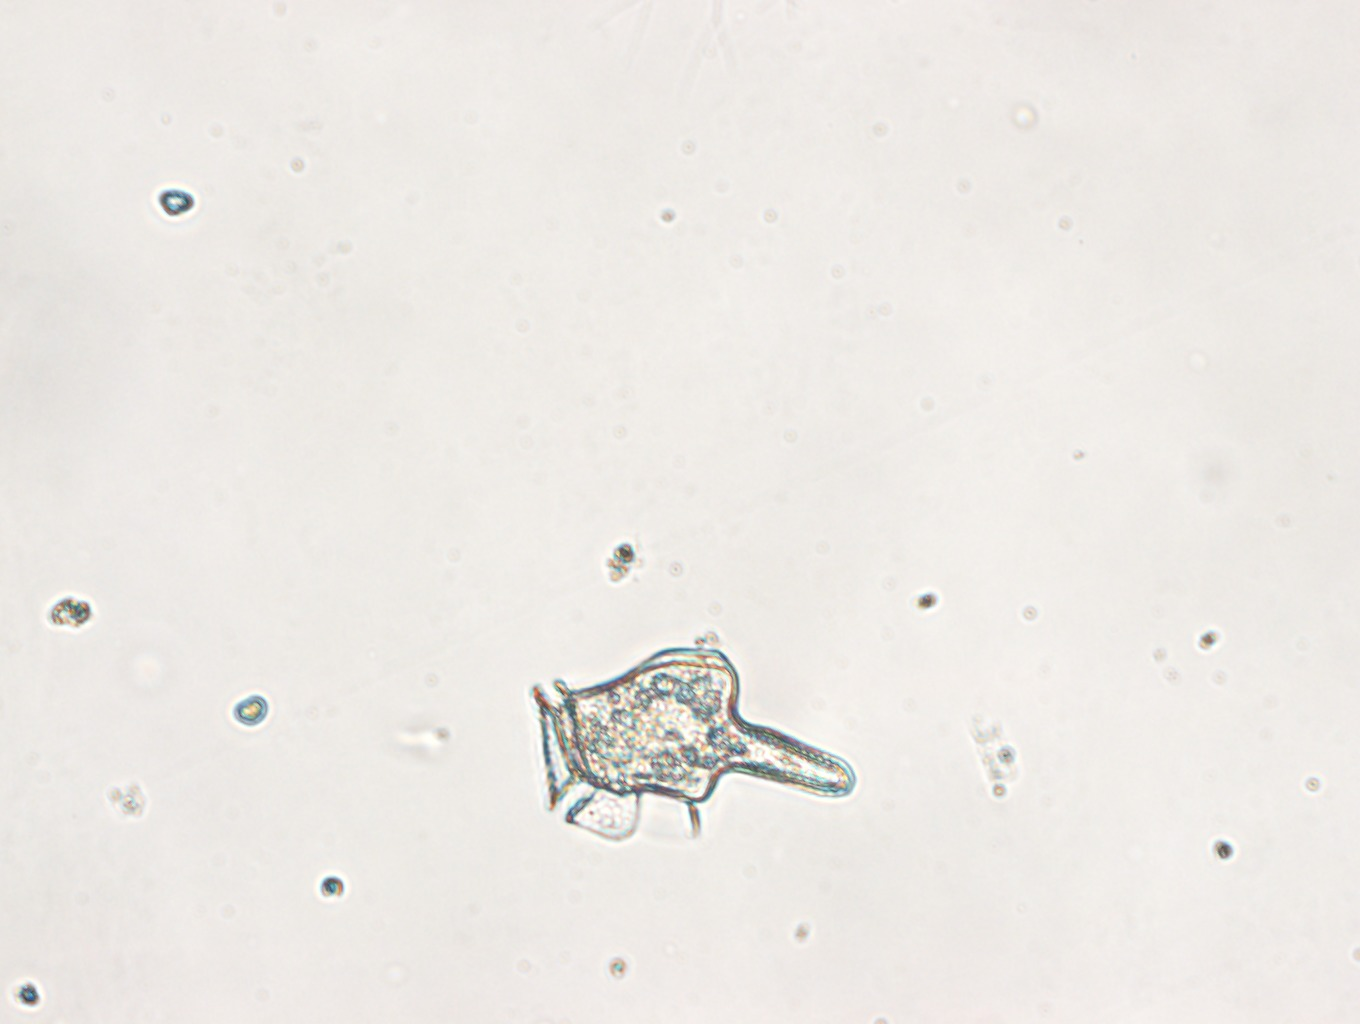dinophysis caudata: (528, 636, 865, 848)
